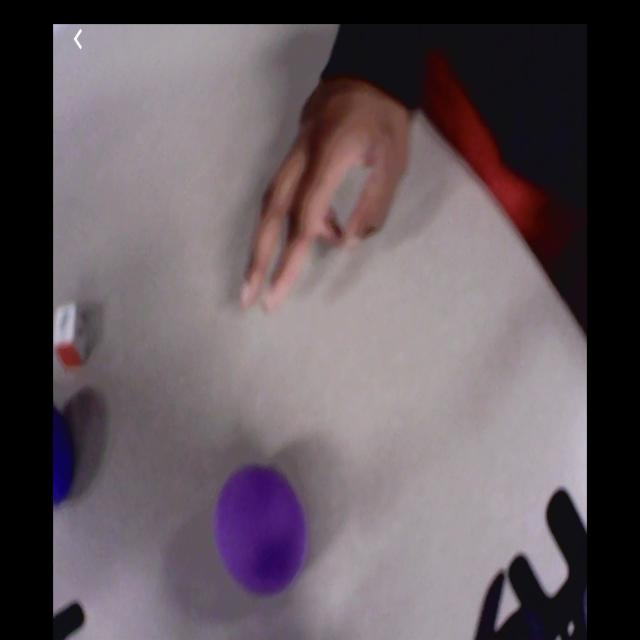ball: (219, 468, 306, 594), (53, 404, 79, 506)
